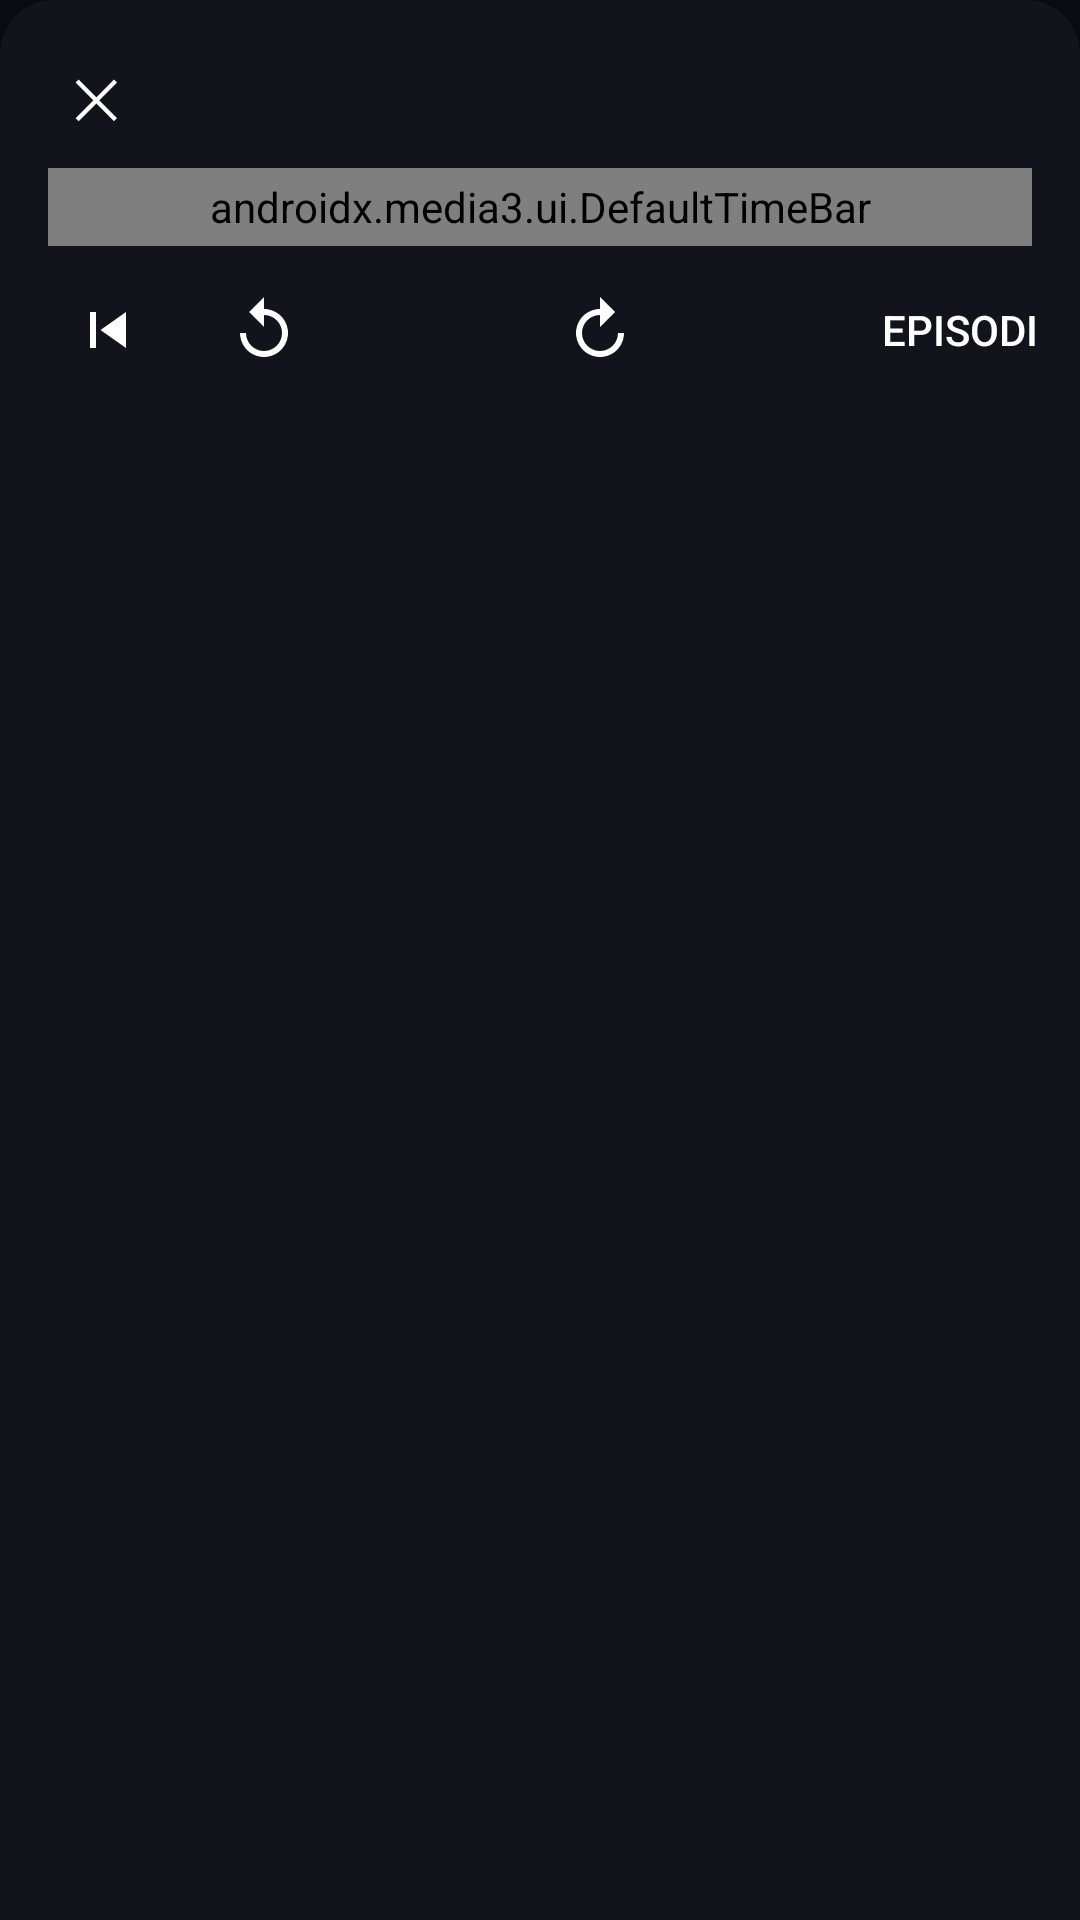

Screen size 1080 x 1920. Icon name, then its box in pixels as [x1, y1, x2, y2]:
Avanti di 10 secondi: [576, 297, 624, 357]
Episodio precedente: [90, 312, 126, 348]
Indietro di 10 secondi: [240, 297, 288, 357]
